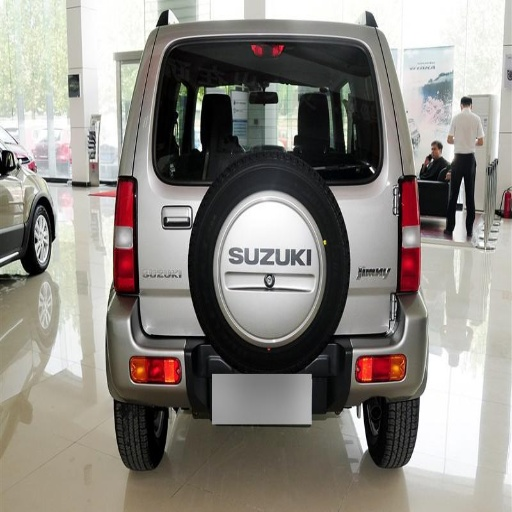back_bumper: (107, 295, 207, 404), (335, 286, 424, 395)
tailgate: (204, 243, 271, 312)
trunk: (138, 187, 213, 338), (331, 163, 397, 291)
